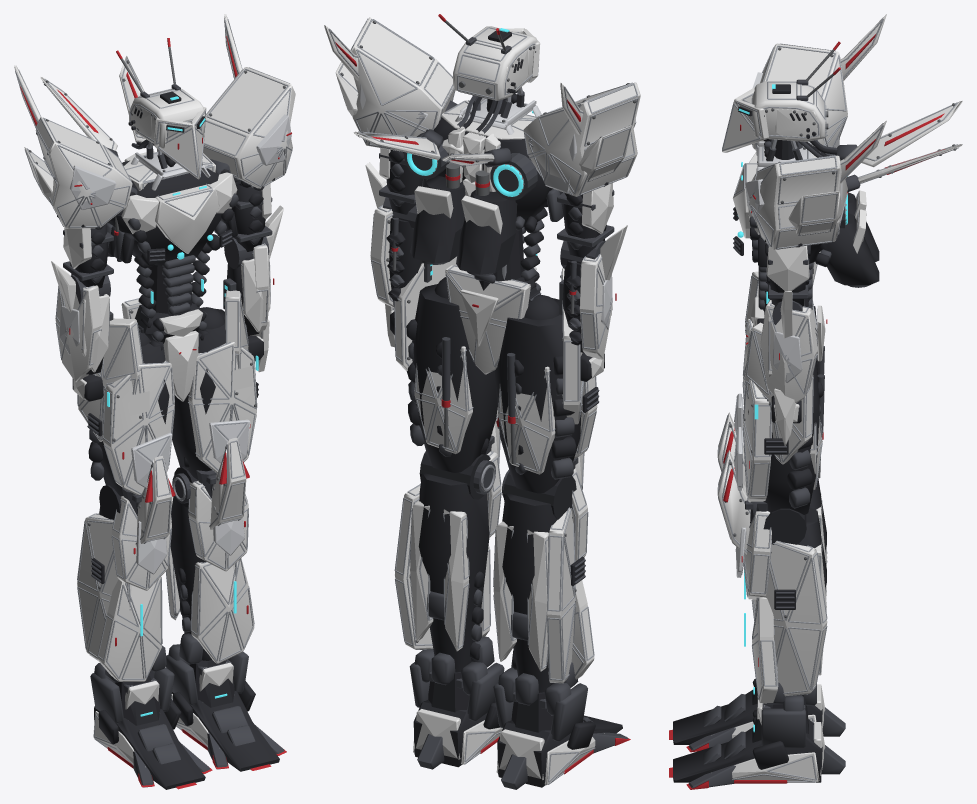
3 renders of one model, left to right at view 1: azimuth 30°, elevation 25°; view 2: azimuth 150°, elevation 25°; view 3: azimuth 270°, elevation 25°, orthographic. The views are drawn at different scales.
Parts seen in each view (by area): view 1: PX09 shin -1, PX09 shin 1, PX09 thigh -1, PX09 thigh 1, PX09 chest, PX09 boot -1, PX09 pauldron 1, PX09 boot 1, PX09 pauldron -1, PX09 head, PX09 forearm -1, PX09 forearm 1 (+21 smaller); view 2: PX09 shin 1, PX09 shin -1, PX09 thigh -1, PX09 thigh 1, PX09 pauldron 1, PX09 pauldron -1, PX09 boot -1, PX09 thruster housings, PX09 chest, PX09 boot 1, PX09 head, PX09 forearm -1 (+19 smaller); view 3: PX09 shin 1, PX09 boot 1, PX09 thigh 1, PX09 pauldron 1, PX09 head, PX09 forearm 1, PX09 pauldron -1, PX09 boot -1, PX09 thruster housings, PX09 chest, PX09 upper arm 1, seam_Mesh_107 (+13 smaller).
Part boxes in pixels (left/top/right/bottom): PX09 shin -1: left=77, top=456, right=175, bottom=683; PX09 shin 1: left=166, top=437, right=254, bottom=665; PX09 thigh -1: left=78, top=318, right=174, bottom=515; PX09 thigh 1: left=172, top=290, right=256, bottom=497; PX09 chest: left=106, top=148, right=238, bottom=266; PX09 boot -1: left=90, top=667, right=212, bottom=789; PX09 pauldron 1: left=203, top=14, right=295, bottom=191; PX09 boot 1: left=166, top=651, right=286, bottom=771; PX09 pauldron -1: left=14, top=65, right=137, bottom=229; PX09 head: left=128, top=88, right=210, bottom=190; PX09 forearm -1: left=51, top=261, right=110, bottom=382; PX09 forearm 1: left=224, top=205, right=283, bottom=372; PX09 shin 1: left=395, top=418, right=501, bottom=695; PX09 shin -1: left=493, top=453, right=594, bottom=715; PX09 thigh -1: left=494, top=268, right=597, bottom=493; PX09 thigh 1: left=395, top=256, right=497, bottom=472; PX09 pauldron 1: left=324, top=17, right=457, bottom=151; PX09 pauldron -1: left=523, top=82, right=640, bottom=196; PX09 boot -1: left=493, top=683, right=630, bottom=789; PX09 thruster housings: left=410, top=175, right=517, bottom=274; PX09 chest: left=404, top=100, right=563, bottom=232; PX09 boot 1: left=409, top=662, right=504, bottom=769; PX09 head: left=452, top=26, right=541, bottom=134; PX09 forearm -1: left=560, top=225, right=627, bottom=359; PX09 shin 1: left=717, top=450, right=827, bottom=711; PX09 boot 1: left=669, top=696, right=845, bottom=789; PX09 thigh 1: left=734, top=322, right=823, bottom=523; PX09 pauldron 1: left=745, top=120, right=886, bottom=249; PX09 head: left=722, top=81, right=837, bottom=171; PX09 forearm 1: left=760, top=291, right=817, bottom=446; PX09 pauldron -1: left=752, top=14, right=886, bottom=153; PX09 boot -1: left=669, top=679, right=845, bottom=752; PX09 thruster housings: left=819, top=190, right=879, bottom=285; PX09 chest: left=733, top=146, right=847, bottom=267; PX09 upper arm 1: left=765, top=243, right=810, bottom=306; seam_Mesh_107: left=755, top=540, right=827, bottom=696.
Bounding box in the file's own units: 4.27 × 10.74 × 4.09.
